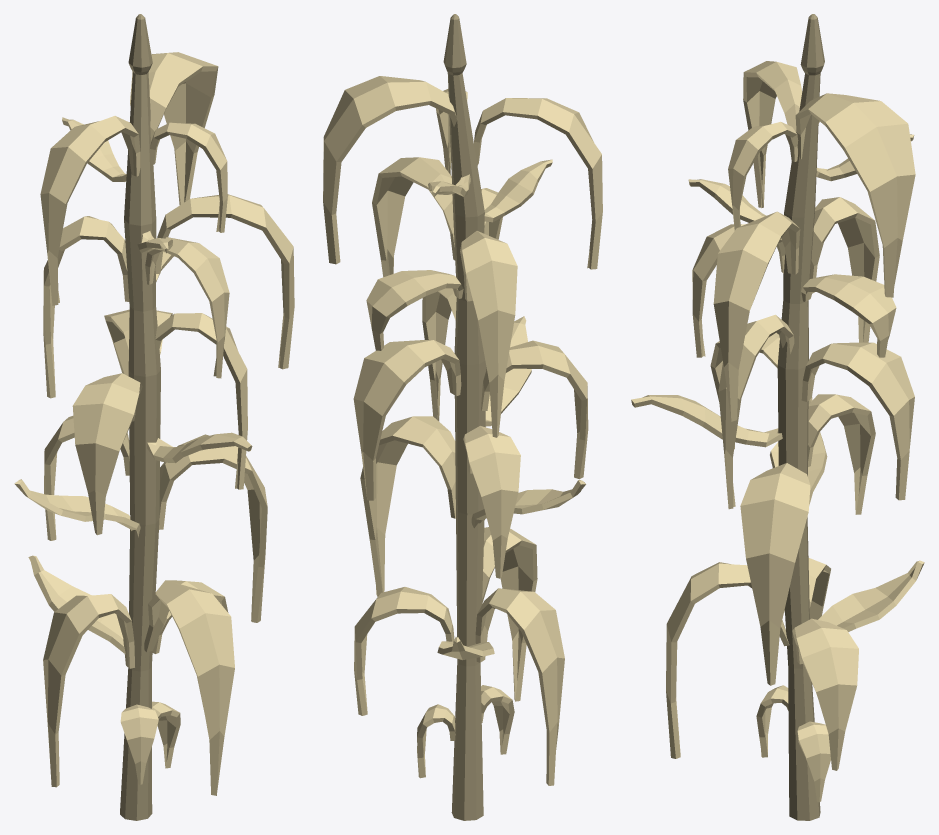
Rendered from bitki.fbx.
The picture shows the model from 3 angles, left to right: view 1: azimuth 30°, elevation 25°; view 2: azimuth 150°, elevation 25°; view 3: azimuth 270°, elevation 25°; orthographic projection.
Visible parts, largest first — view 1: Cube.001; view 2: Cube.001; view 3: Cube.001.
Part boxes in pixels (x1,y1,x2,y2): Cube.001: [14, 14, 294, 820]; Cube.001: [323, 14, 602, 820]; Cube.001: [631, 14, 924, 820].
Bounding box in the file's own units: 139 × 435 × 144.
